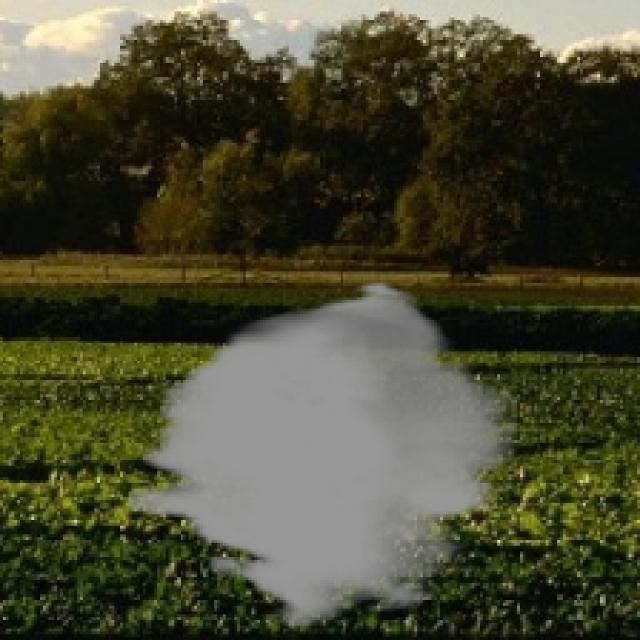smoke: (129, 280, 517, 629)
